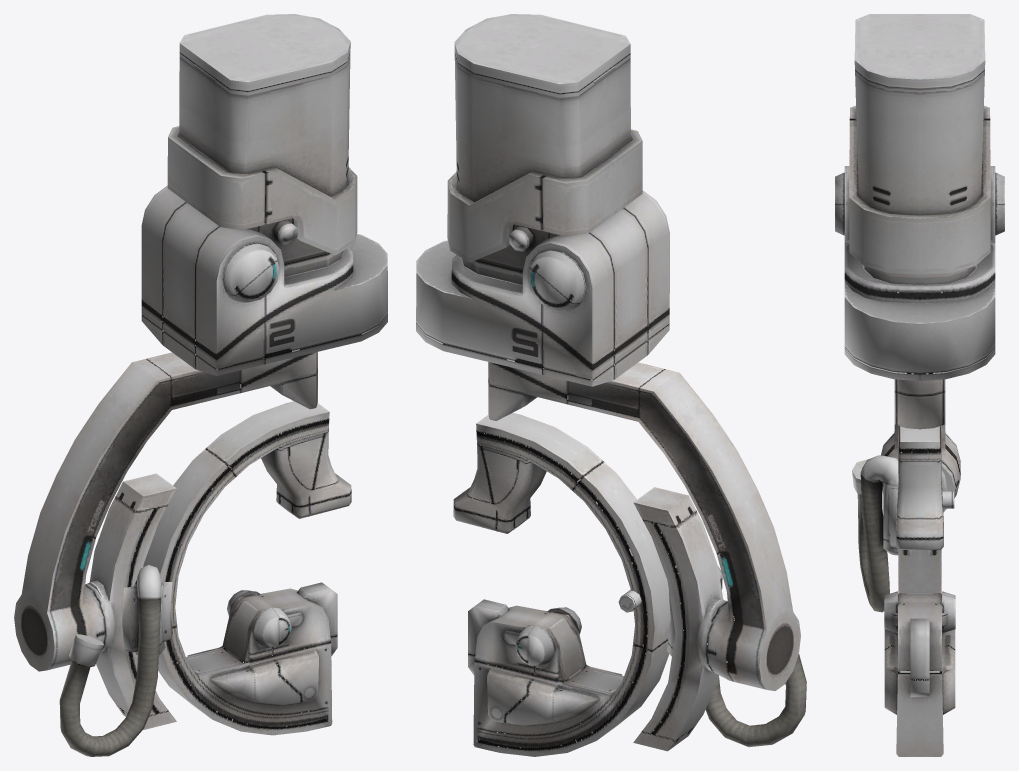
Rendered from EquipmentLab11.FBX.
3 renders of one model, left to right at view 1: azimuth 30°, elevation 25°; view 2: azimuth 150°, elevation 25°; view 3: azimuth 270°, elevation 25°, orthographic. The views are drawn at different scales.
Parts seen in each view (by area): view 1: EquipmentLab11; view 2: EquipmentLab11; view 3: EquipmentLab11.
Part boxes in pixels (x1,y1,x2,y2): EquipmentLab11: (14,14,387,756); EquipmentLab11: (416,14,806,756); EquipmentLab11: (835,14,1004,756).
Size of the model in its own units: 1.59 by 3.02 by 0.6767.
